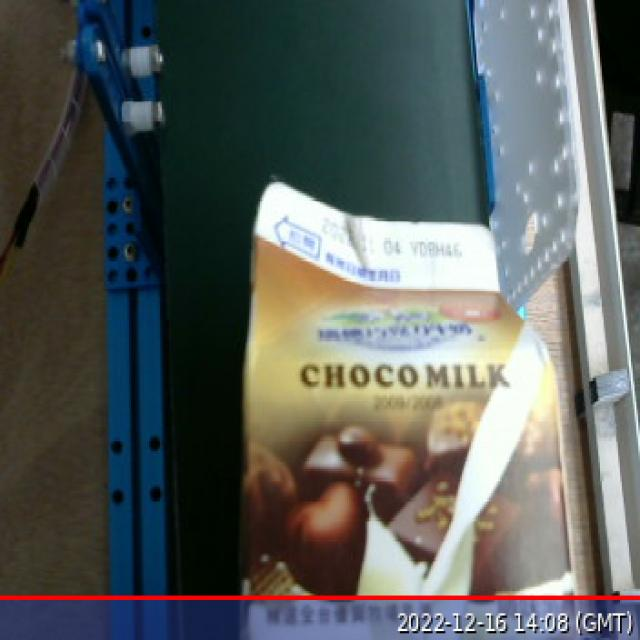non_white_jug: (231, 167, 592, 640)
